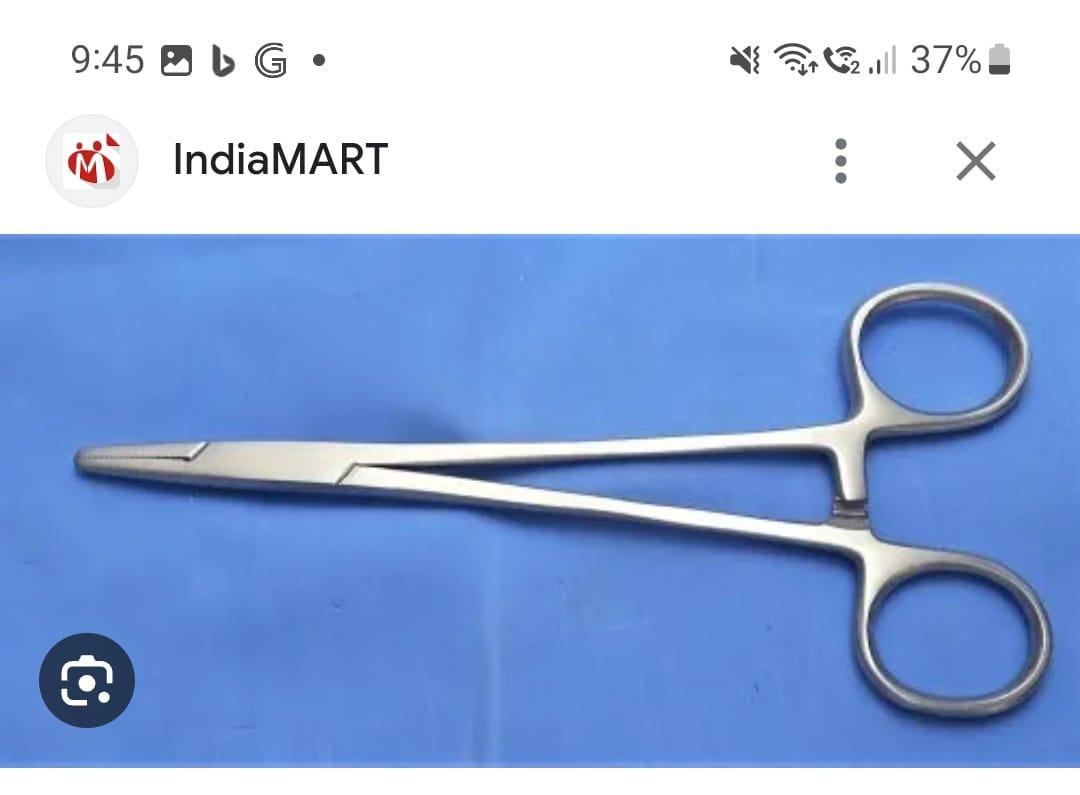Needle Holder: (74, 288, 1050, 727)
